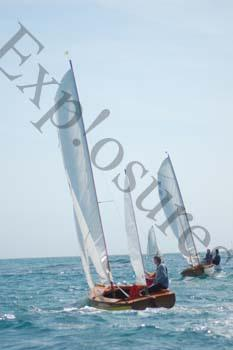Ship: (55, 61, 177, 311), (158, 153, 220, 280)
